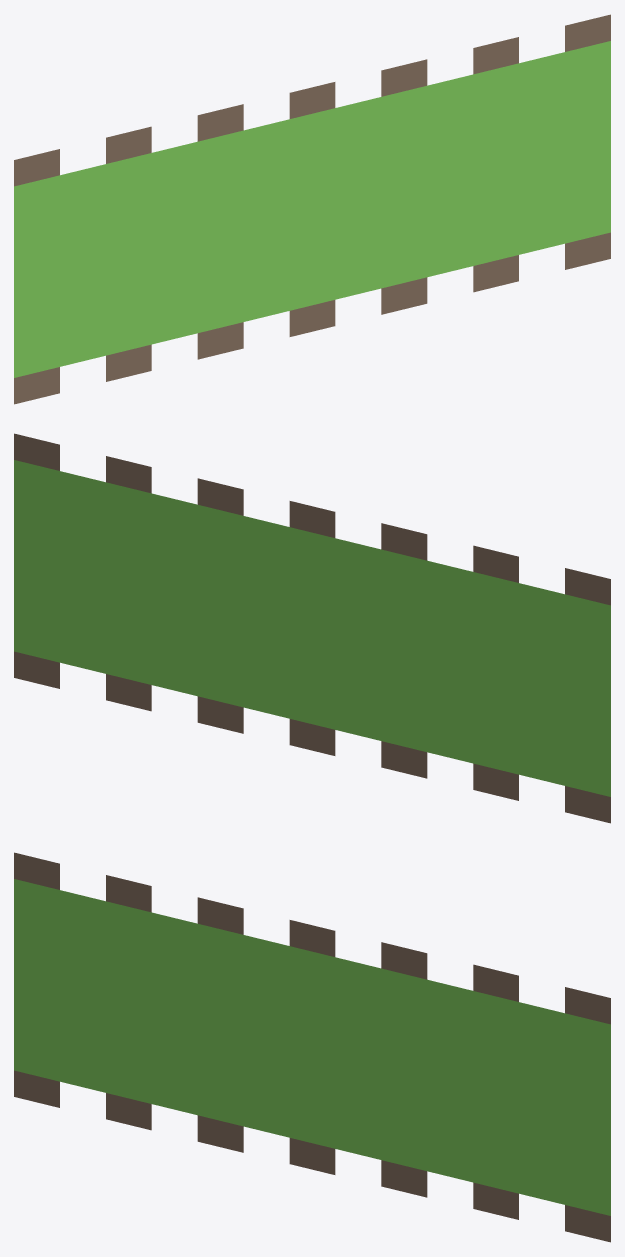
The model's file is LinePlane.fbx.
The picture shows the model from 3 angles, top to bottom: view 1: azimuth 30°, elevation 25°; view 2: azimuth 150°, elevation 25°; view 3: azimuth 330°, elevation 25°; orthographic projection.
Visible parts, largest first — view 1: LinePlane; view 2: LinePlane; view 3: LinePlane.
Part boxes in pixels (<box>): LinePlane: <box>14,14,610,404</box>; LinePlane: <box>14,433,610,823</box>; LinePlane: <box>14,852,610,1242</box>.
Size of the model in its own units: 245 by 95.85 by 0.
